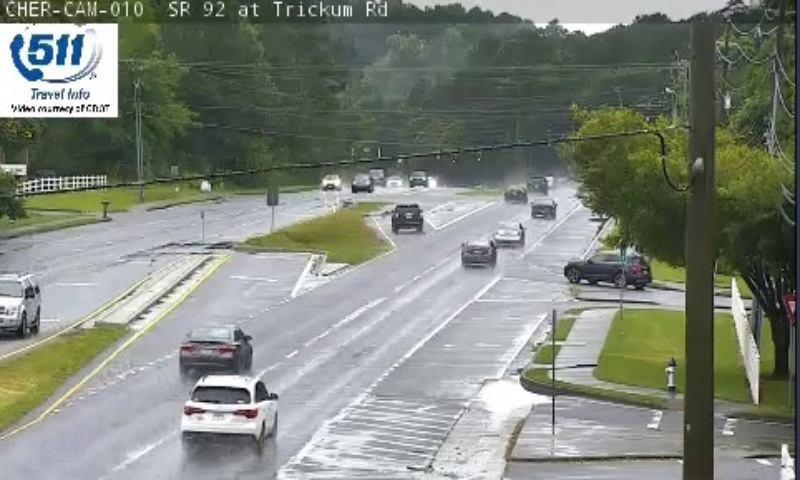car: (182, 373, 277, 442), (179, 324, 252, 369), (461, 238, 496, 265), (391, 203, 423, 230), (492, 220, 524, 245), (529, 196, 556, 220)
